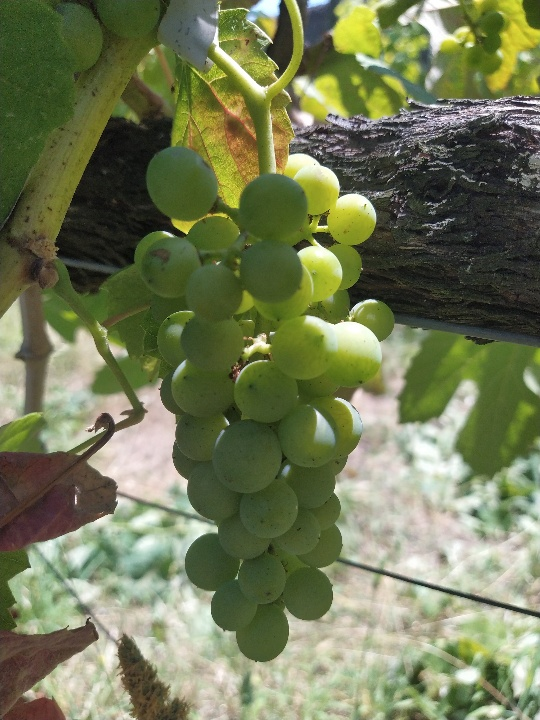grape: (133, 144, 394, 664)
